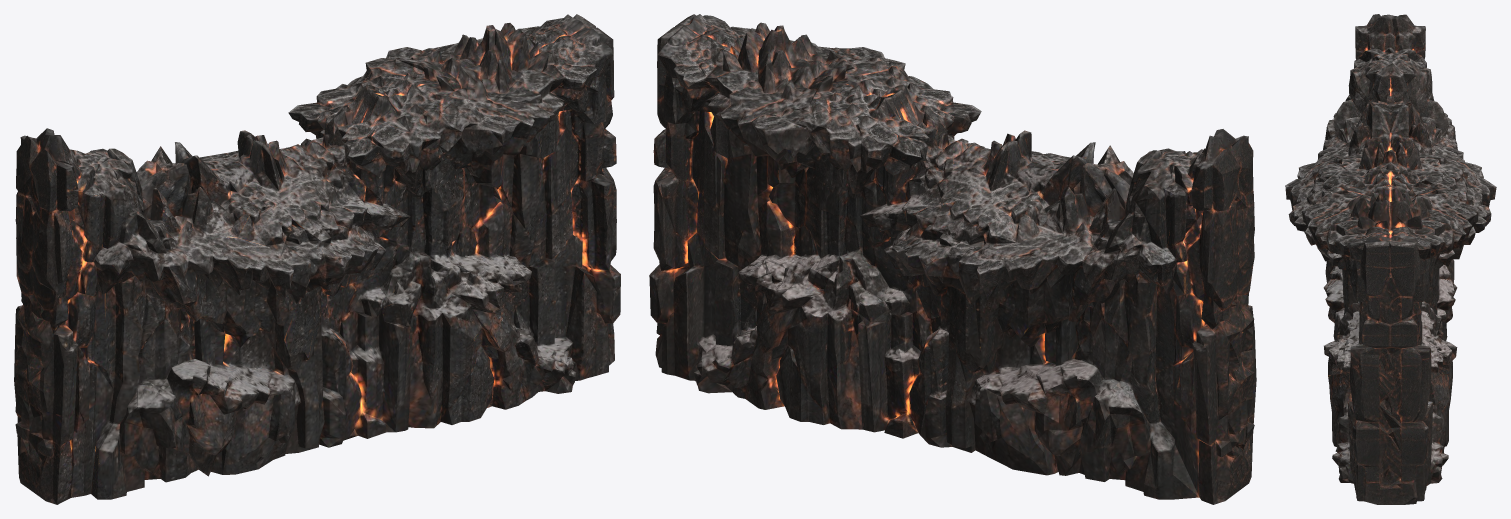
The model's file is cliff_wall.glb.
3 views of the same model, side by side, from view 1: azimuth 30°, elevation 25°; view 2: azimuth 150°, elevation 25°; view 3: azimuth 270°, elevation 25° (orthographic). The views are drawn at different scales.
Size of the model in its own units: 1.9 by 1.12 by 0.7688.
1 material, 1 textured.
